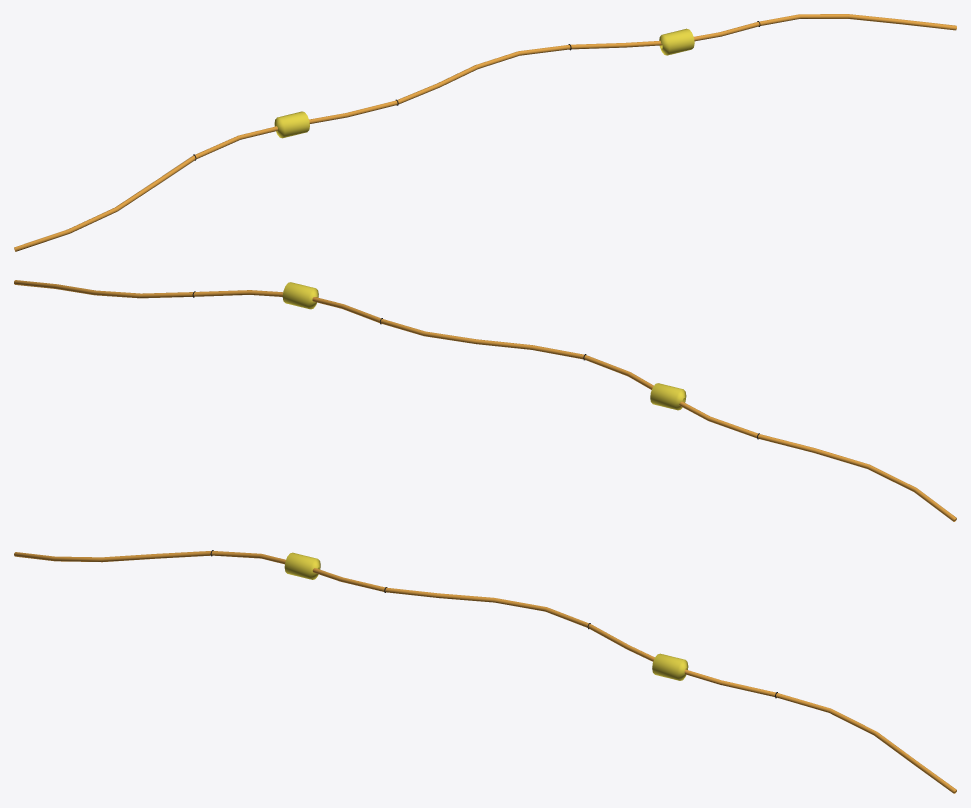
The model's file is lake-tether-shallows-0.glb.
3 renders of one model, top to bottom at view 1: azimuth 30°, elevation 25°; view 2: azimuth 150°, elevation 25°; view 3: azimuth 330°, elevation 25°, orthographic.
Parts seen in each view (by area): view 1: lake-tether-shallows-0; view 2: lake-tether-shallows-0; view 3: lake-tether-shallows-0.
Part boxes in pixels (<box>): lake-tether-shallows-0: <box>14,14,956,251</box>; lake-tether-shallows-0: <box>14,280,956,521</box>; lake-tether-shallows-0: <box>14,550,956,793</box>.
Size of the model in its own units: 3 by 0.2138 by 0.1365.
